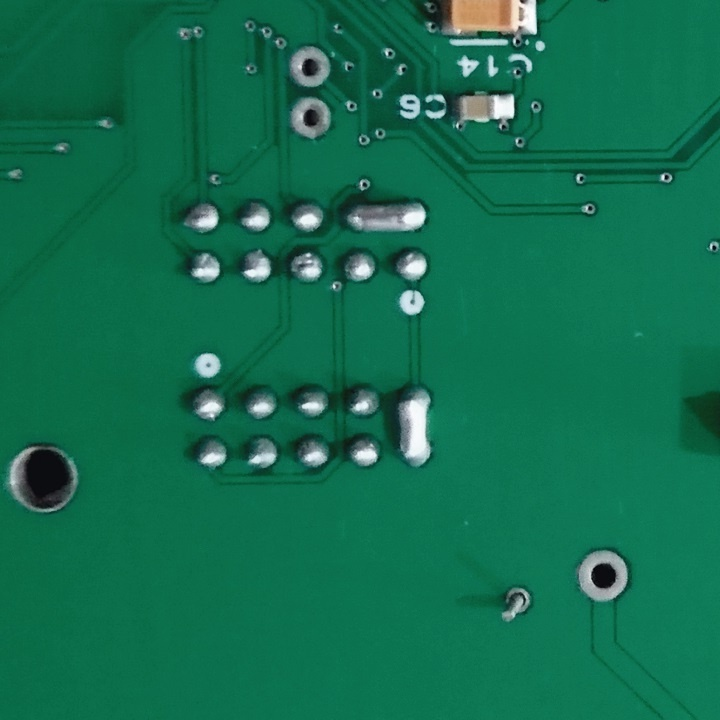F: (573, 547, 633, 605), (288, 95, 337, 146), (286, 41, 333, 89), (496, 583, 536, 626)
P: (390, 379, 436, 471), (339, 195, 433, 238)
